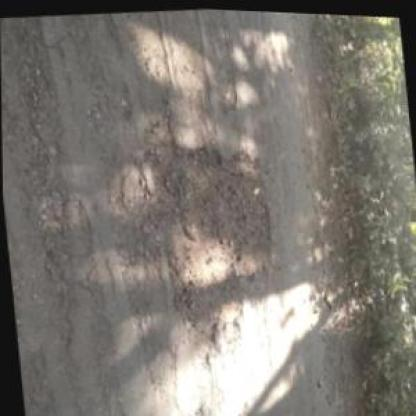pothole: (132, 125, 283, 362)
